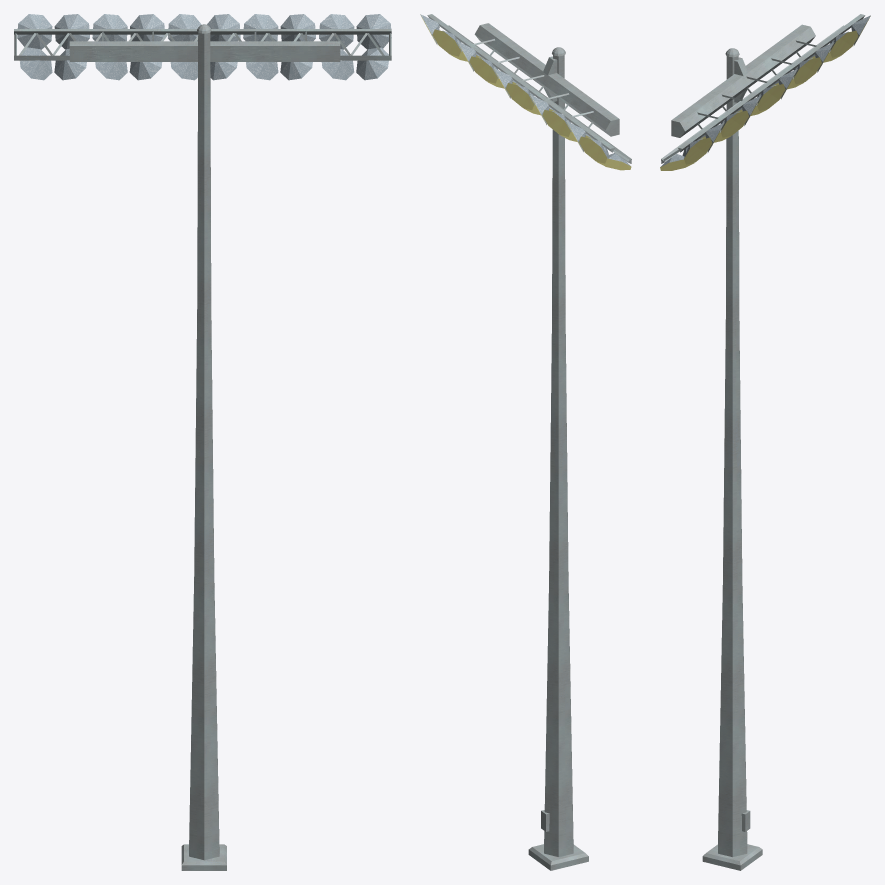
Rendered from FbLamp.fbx.
3 views of the same model, side by side, from view 1: azimuth 30°, elevation 25°; view 2: azimuth 150°, elevation 25°; view 3: azimuth 270°, elevation 25° (orthographic). The views are drawn at different scales.
Visible parts, largest first — view 1: G_00_LIT_s11_1; view 2: G_00_LIT_s11_1; view 3: G_00_LIT_s11_1.
Part boxes in pixels (bbox=[...]): G_00_LIT_s11_1: bbox=[14, 14, 391, 870]; G_00_LIT_s11_1: bbox=[420, 14, 631, 870]; G_00_LIT_s11_1: bbox=[660, 14, 870, 870].
Size of the model in its own units: 2.03 by 5.44 by 1.29.
